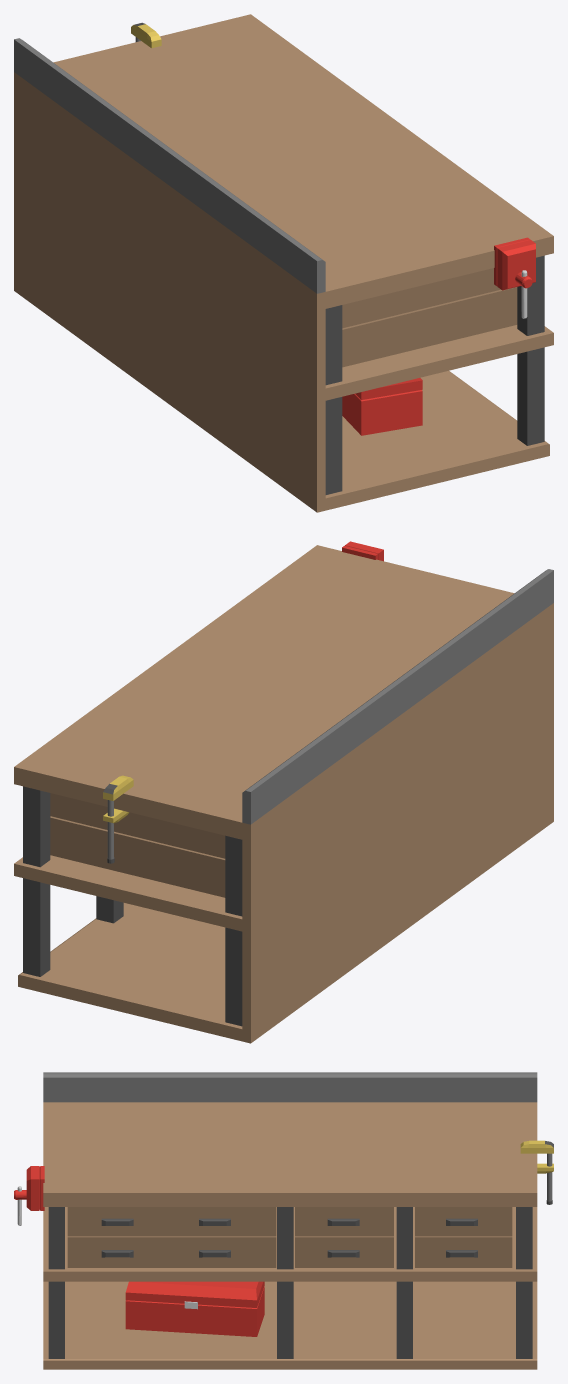
Rendered from workshop.fbx.
3 renders of one model, top to bottom at view 1: azimuth 30°, elevation 25°; view 2: azimuth 150°, elevation 25°; view 3: azimuth 270°, elevation 25°, orthographic. The views are drawn at different scales.
Visible parts, largest first — view 1: Workbench; view 2: Workbench; view 3: Workbench.
Boxes of the visible parts, <box> form: Workbench: <box>14,14,553,512</box>; Workbench: <box>14,541,553,1043</box>; Workbench: <box>14,1072,553,1369</box>.
Size of the model in its own units: 96.31 by 96.58 by 231.
